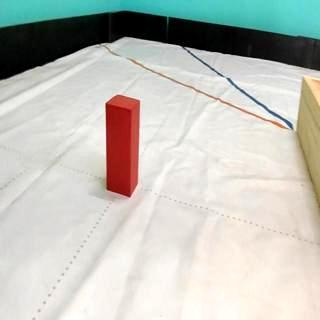redbox: (104, 93, 138, 197)
